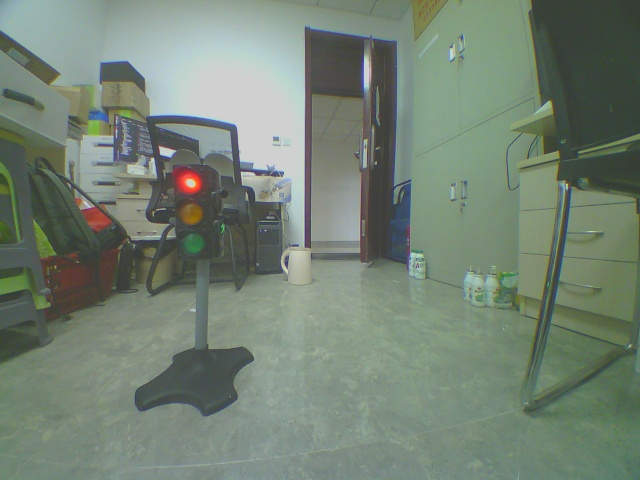Red: (172, 164, 219, 260)
